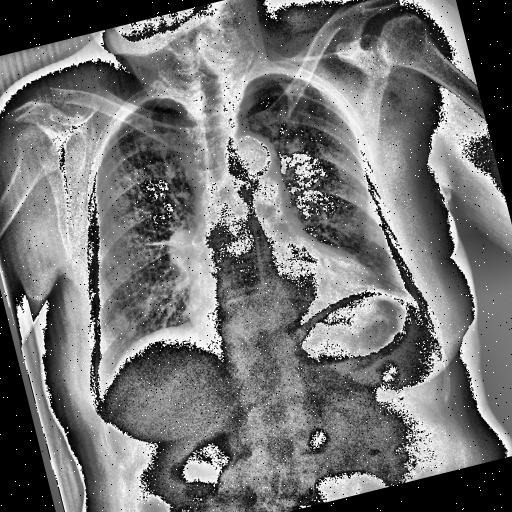0- Aortic enlargement: (212, 119, 300, 226)
11- Pleural thickening: (124, 226, 186, 264)
13- Pulmonary fibrosis: (144, 234, 182, 254)
2- Calcification: (214, 122, 290, 199), (226, 124, 280, 184)
3- Cardiomegaly: (168, 220, 388, 352)
